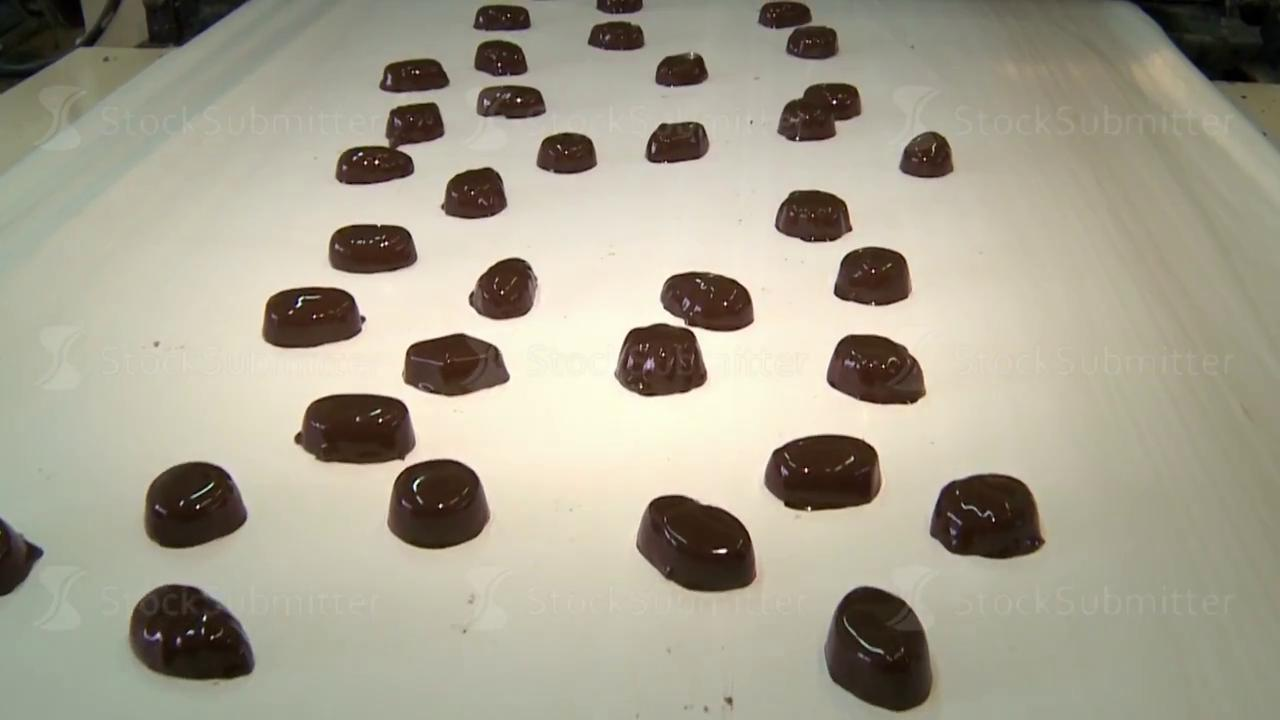chocolate: (824, 585, 933, 711), (129, 583, 254, 680), (635, 493, 756, 591), (930, 472, 1044, 559), (387, 458, 489, 548), (764, 433, 881, 511), (144, 460, 247, 548), (294, 392, 415, 463), (826, 333, 926, 404), (614, 322, 707, 396), (403, 332, 509, 396), (262, 286, 364, 347), (660, 271, 754, 331), (834, 246, 911, 305), (328, 223, 417, 273), (469, 257, 538, 319), (775, 189, 852, 242), (0, 516, 43, 596), (442, 167, 506, 218), (335, 145, 413, 184), (645, 121, 709, 163), (385, 101, 444, 145), (777, 98, 836, 141), (536, 132, 596, 173), (900, 131, 953, 177), (379, 58, 449, 92), (476, 85, 545, 119), (804, 82, 861, 119), (474, 39, 527, 76), (655, 51, 708, 86), (786, 25, 838, 58), (588, 20, 644, 50), (758, 1, 811, 29), (473, 5, 530, 31)
